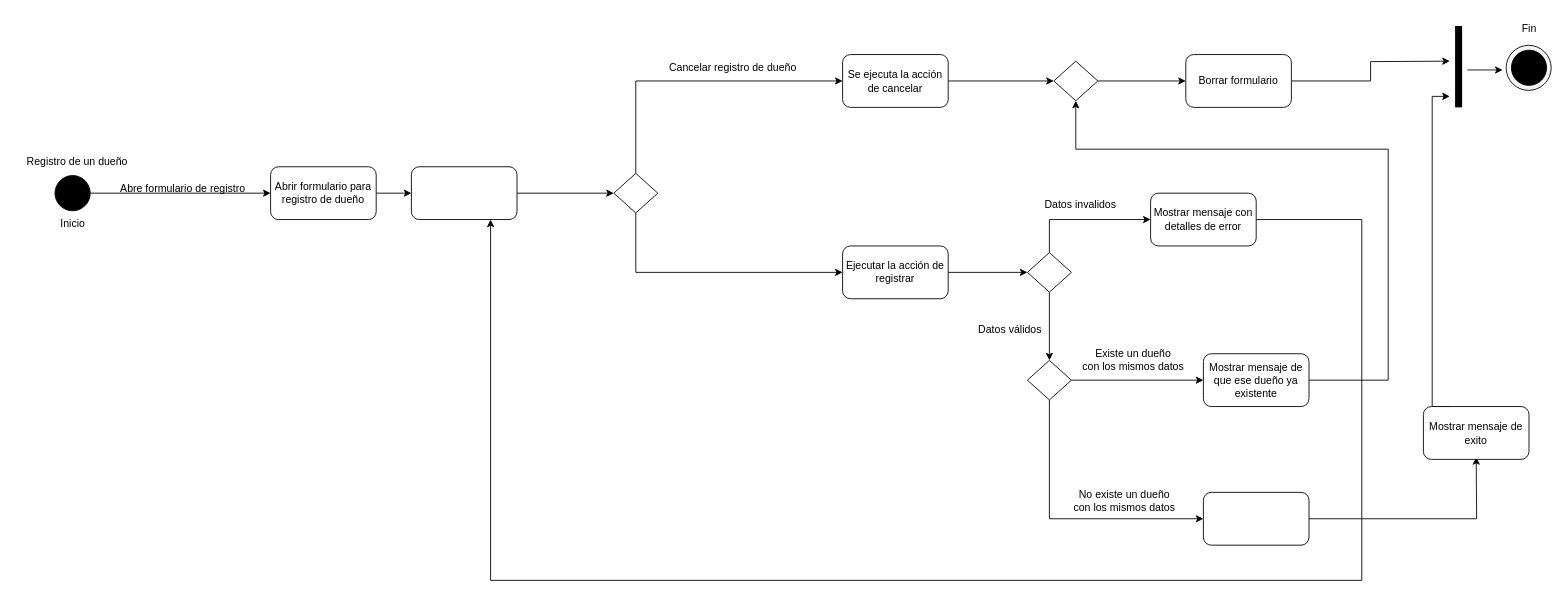
The diagram is 1566 pixels wide and 603 high, and some of its shapes have lost their labels. Here are the shapes that lost their labels. From the top down, the centre of each, then its label:
At (464,193): "Llenar formulario datos de dueño".
At (1256,518): "Guardar nuevo dueño".
